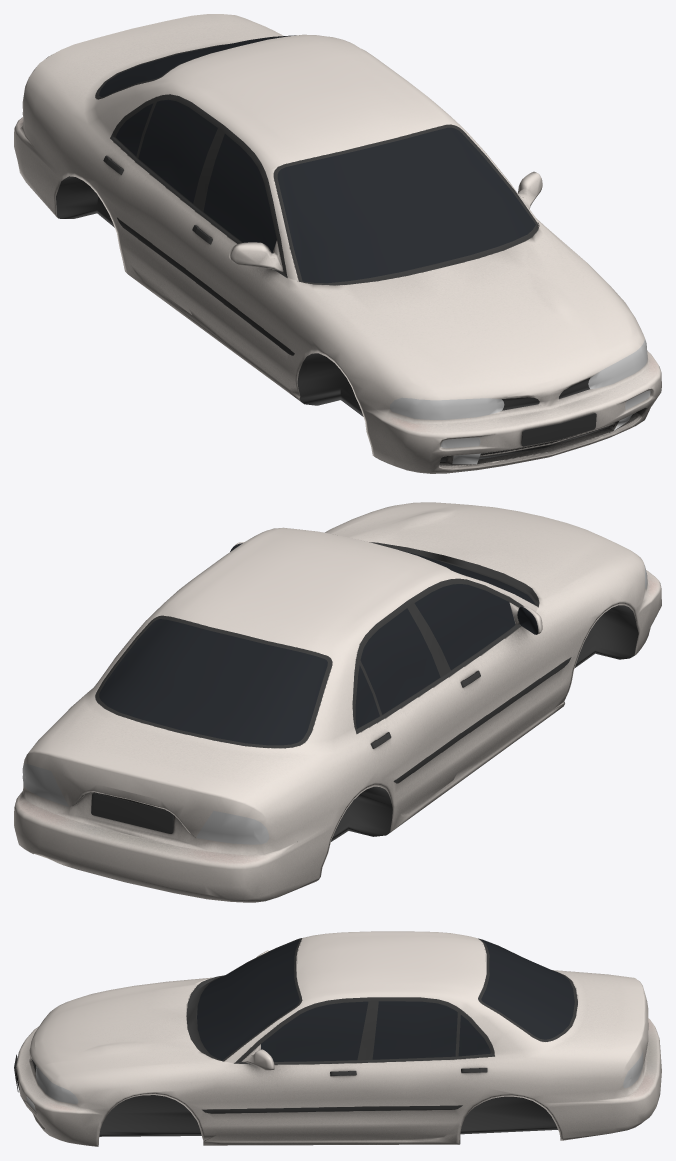
File: car_0007.fbx
3 views of the same model, one above another, from view 1: azimuth 30°, elevation 25°; view 2: azimuth 150°, elevation 25°; view 3: azimuth 270°, elevation 25° (orthographic). The views are drawn at different scales.
Parts seen in each view (by area): view 1: car_main; view 2: car_main; view 3: car_main.
Boxes of the visible parts, x1=… form: car_main: x1=14, y1=14, x2=661, y2=473; car_main: x1=14, y1=502, x2=661, y2=902; car_main: x1=14, y1=931, x2=661, y2=1146.
Size of the model in its own units: 206 by 127 by 509.
